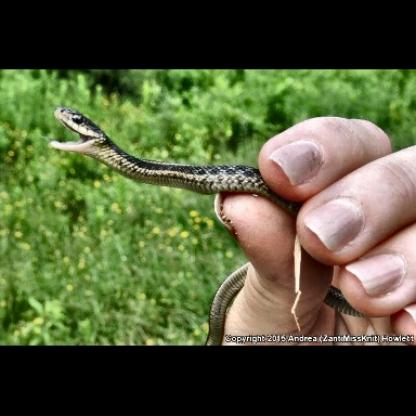Snake: (36, 100, 259, 200)
